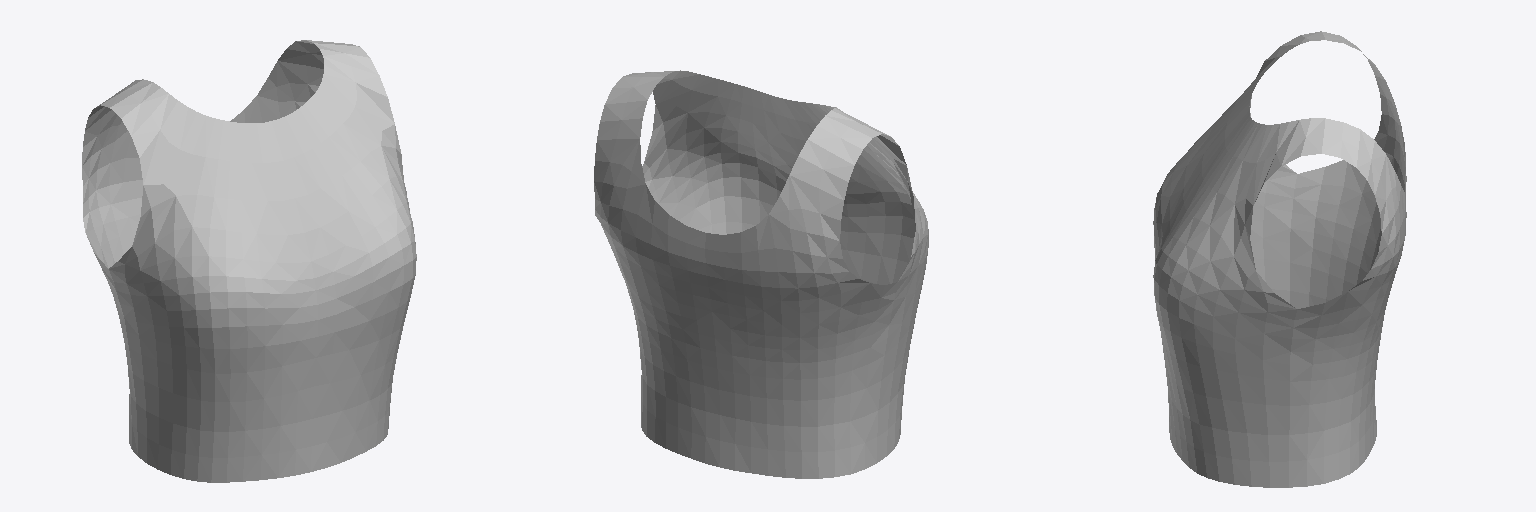
Rendered from 10_bodiceround.obj.
3 views of the same model, side by side, from view 1: azimuth 30°, elevation 25°; view 2: azimuth 150°, elevation 25°; view 3: azimuth 270°, elevation 25° (orthographic).
Visible parts, largest first — view 1: bodicefrontleft, bodicefrontright, object_7, bodicebackleft, bodicebackright, bodiceback; view 2: bodiceback, bodicebackleft, bodicefrontleft, bodicebackright, object_7, bodicefrontright; view 3: object_7, bodicebackright, bodicebackleft, bodicefrontleft, bodicefrontright, bodiceback.
Boxes of the visible parts, <box> form: bodicefrontleft: <box>109,82,317,482</box>; bodicefrontright: <box>271,99,412,471</box>; object_7: <box>310,43,416,440</box>; bodicebackleft: <box>82,79,152,455</box>; bodicebackright: <box>257,40,359,122</box>; bodiceback: <box>124,96,262,237</box>; bodiceback: <box>636,185,785,477</box>; bodicebackleft: <box>769,116,897,478</box>; bodicefrontleft: <box>784,99,928,462</box>; bodicebackright: <box>594,77,665,448</box>; object_7: <box>623,70,734,234</box>; bodicefrontright: <box>721,84,806,233</box>; object_7: <box>1167,118,1325,487</box>; bodicebackright: <box>1289,119,1402,487</box>; bodicebackleft: <box>1290,32,1402,308</box>; bodicefrontleft: <box>1153,31,1324,303</box>; bodicefrontright: <box>1153,110,1258,472</box>; bodiceback: <box>1365,126,1406,459</box>.
Size of the model in its own units: 13.14 by 15.79 by 10.26.